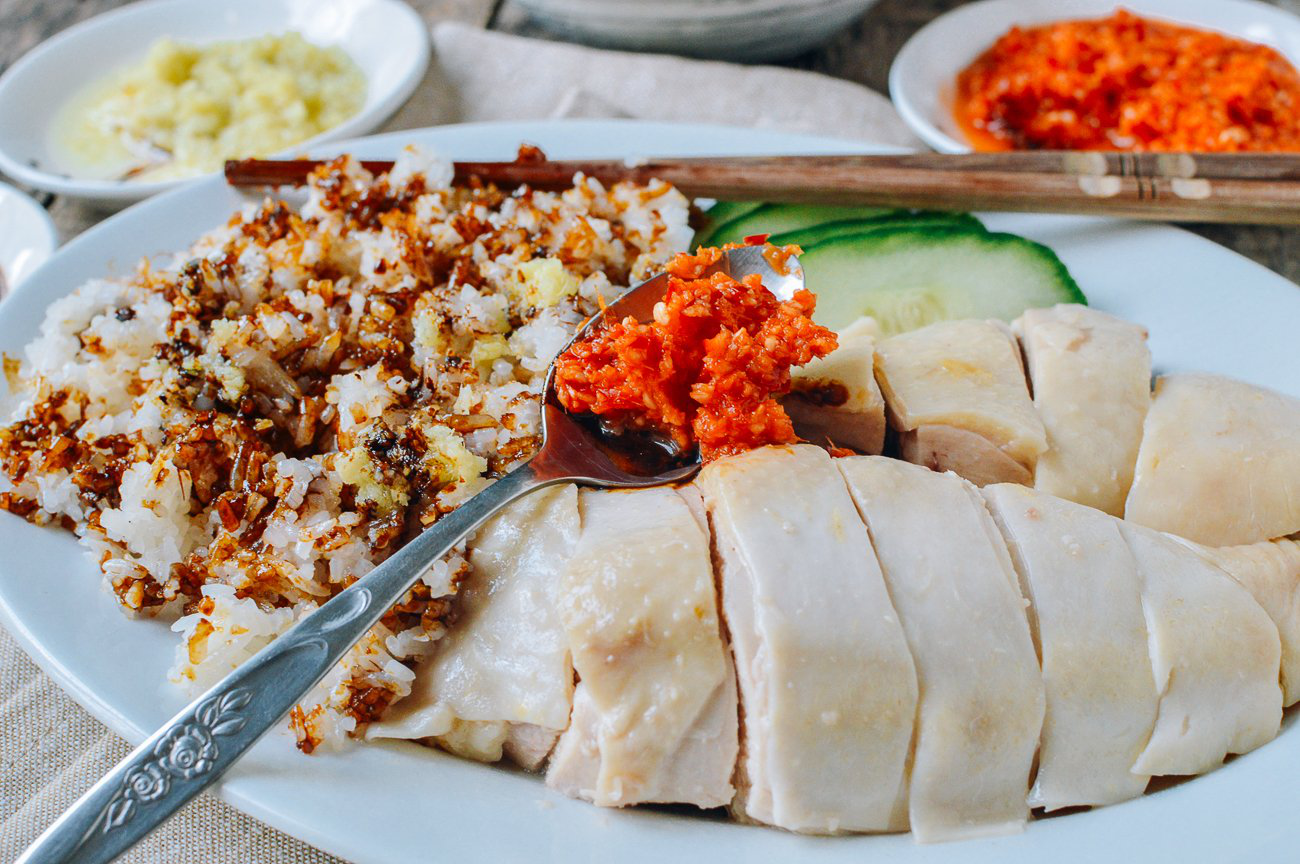Steamed Chicken Rice: (530, 444, 1292, 848)
